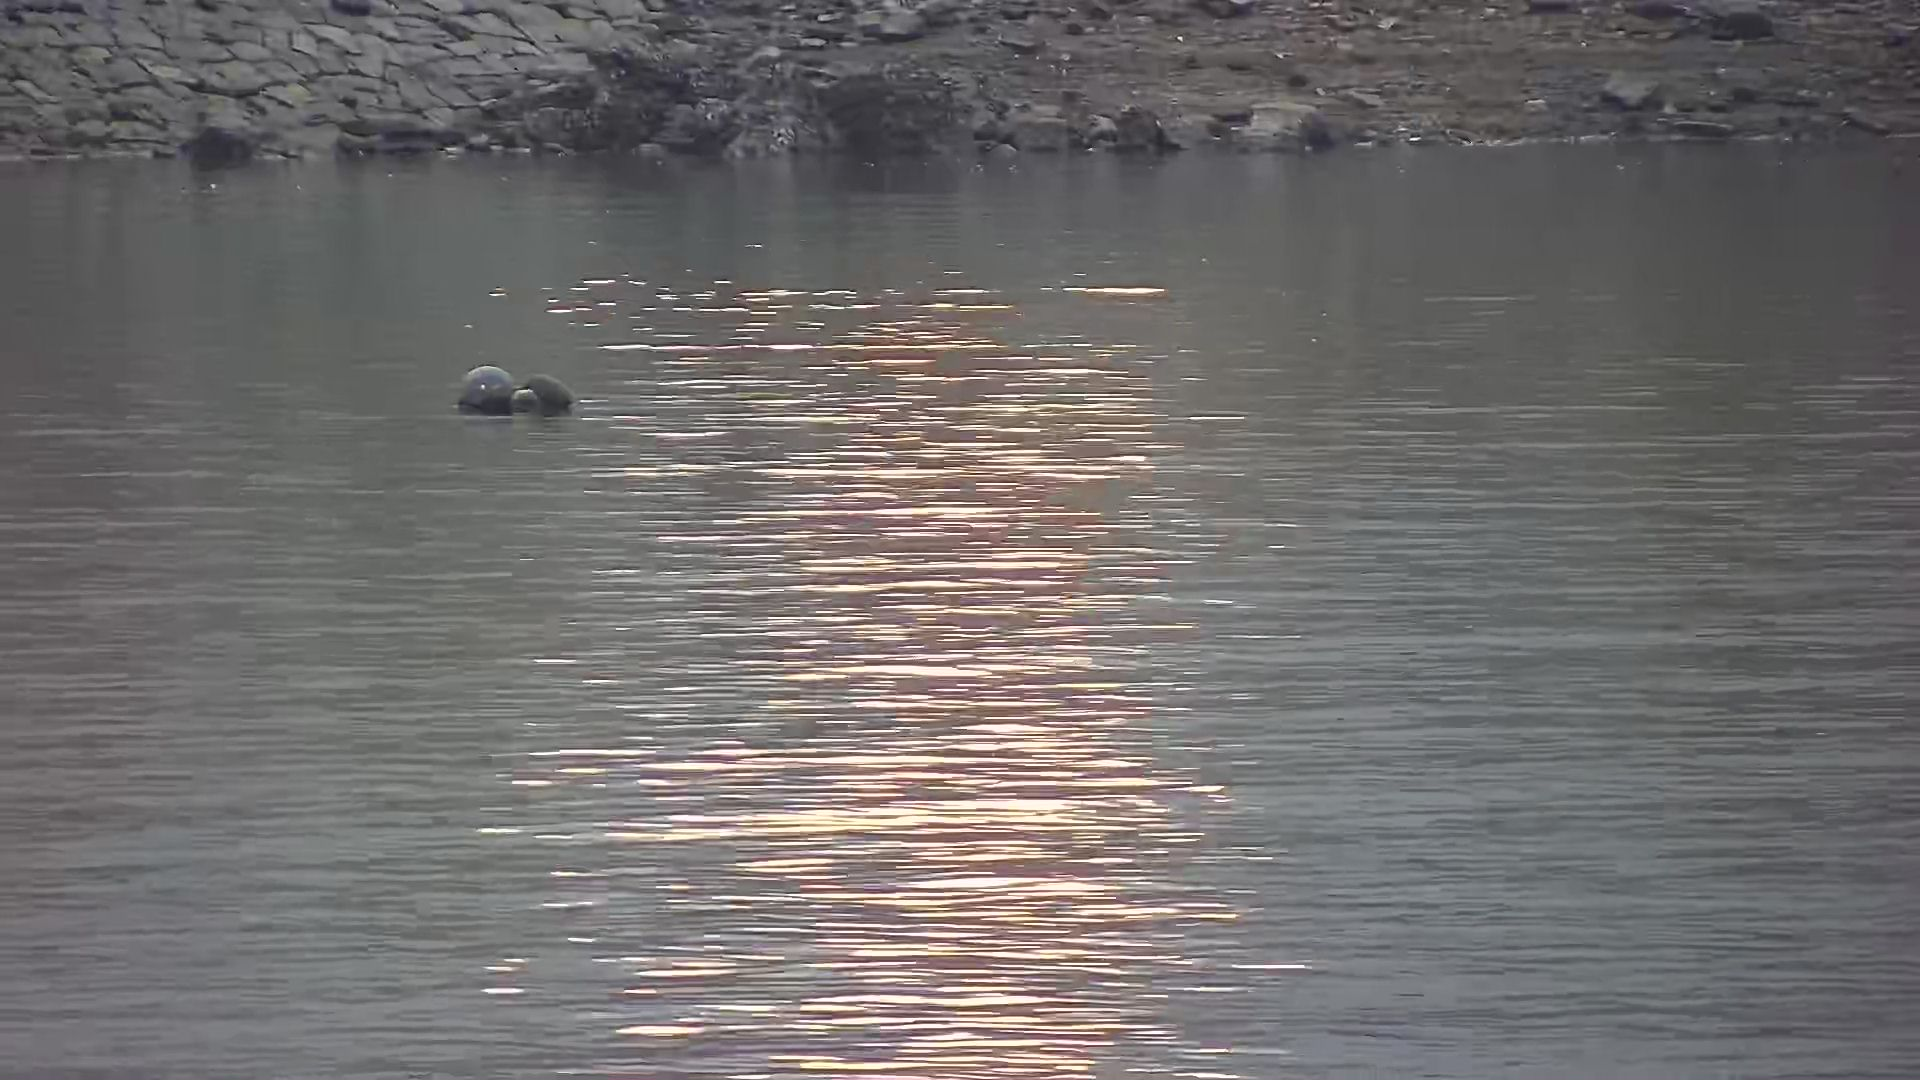rubbish: (450, 364, 583, 418)
